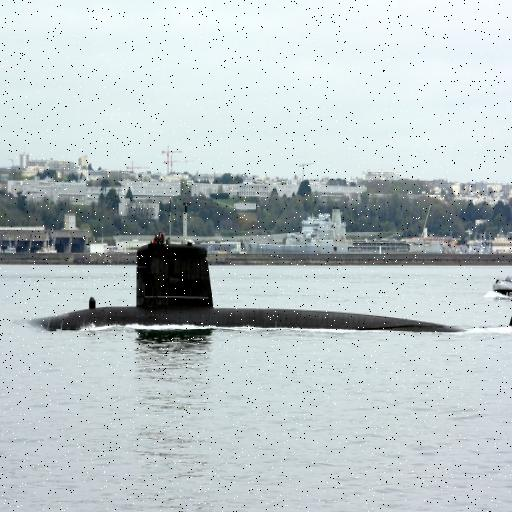submarine: (36, 244, 512, 330)
